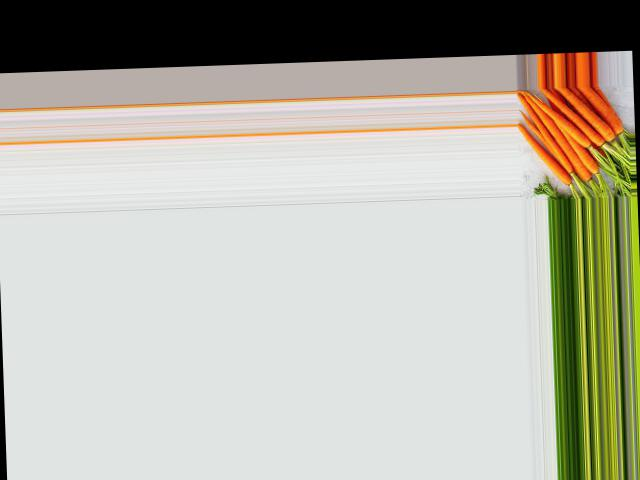carrot: (585, 84, 624, 136)
